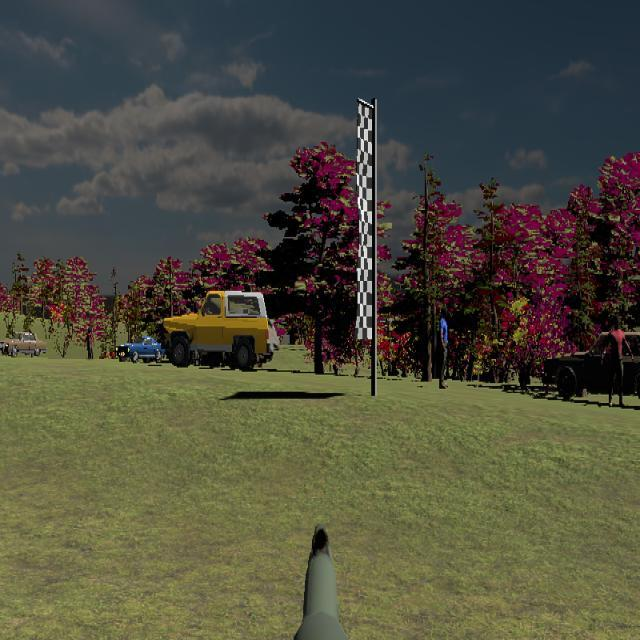Human: (601, 314, 634, 410)
car: (160, 290, 270, 371), (117, 336, 163, 363), (0, 331, 47, 357)
